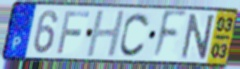6: (31, 9, 60, 56)
C: (118, 11, 152, 59)
F: (150, 9, 189, 63), (55, 10, 92, 56)
H: (84, 9, 127, 59)
N: (179, 12, 217, 61)
